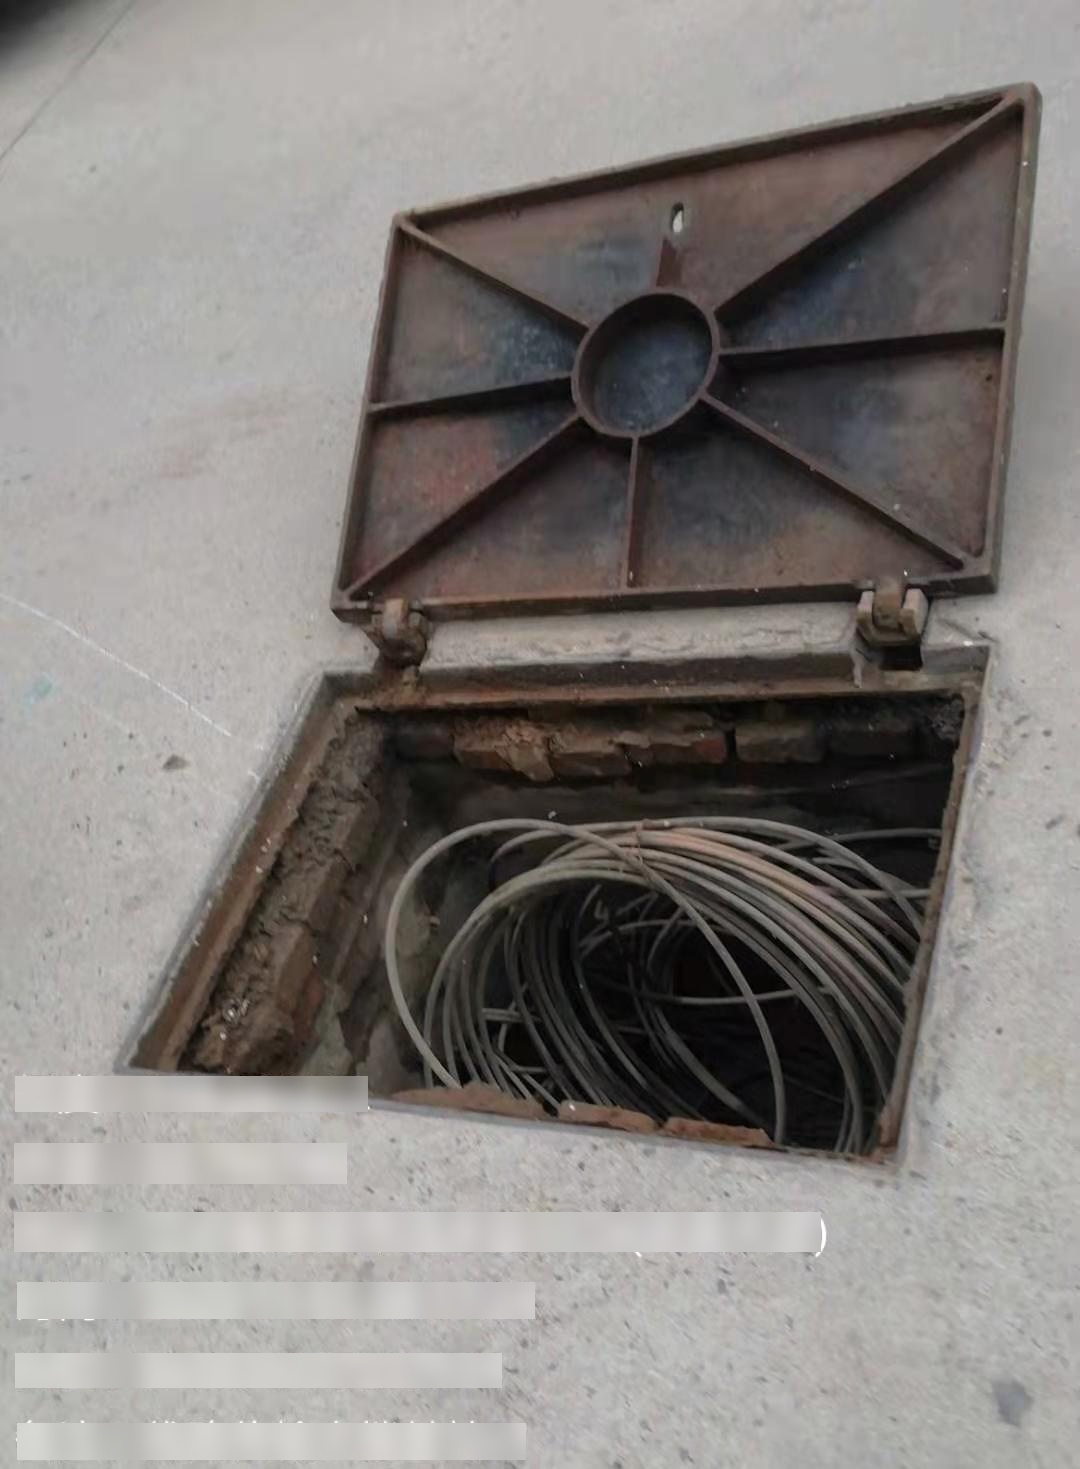uncovered: (129, 86, 1040, 1180)
